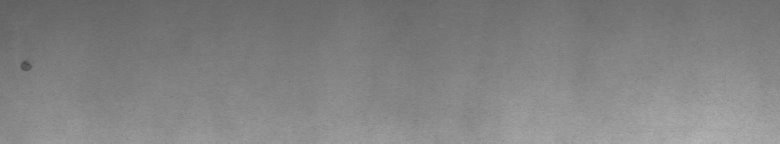fi: (17, 53, 32, 76)
